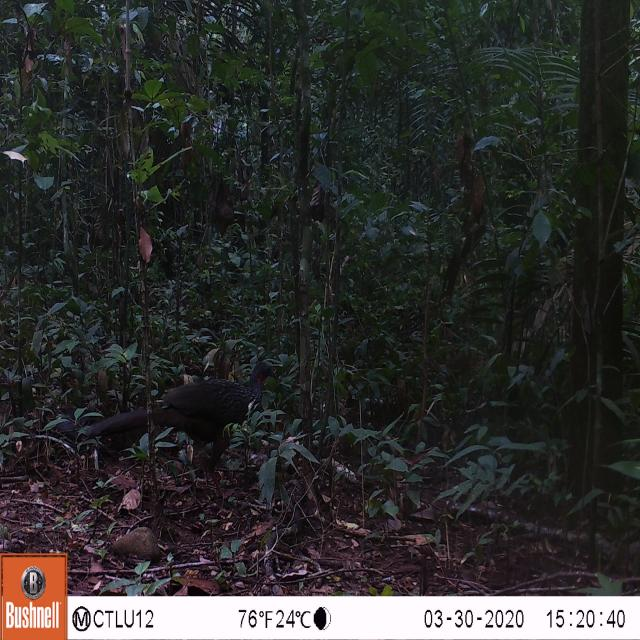Spixs Guan: (68, 351, 283, 514)
